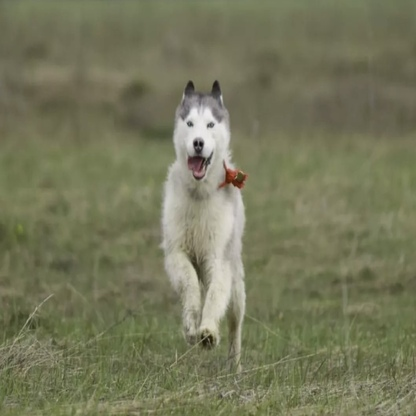husky: (160, 77, 250, 378)
